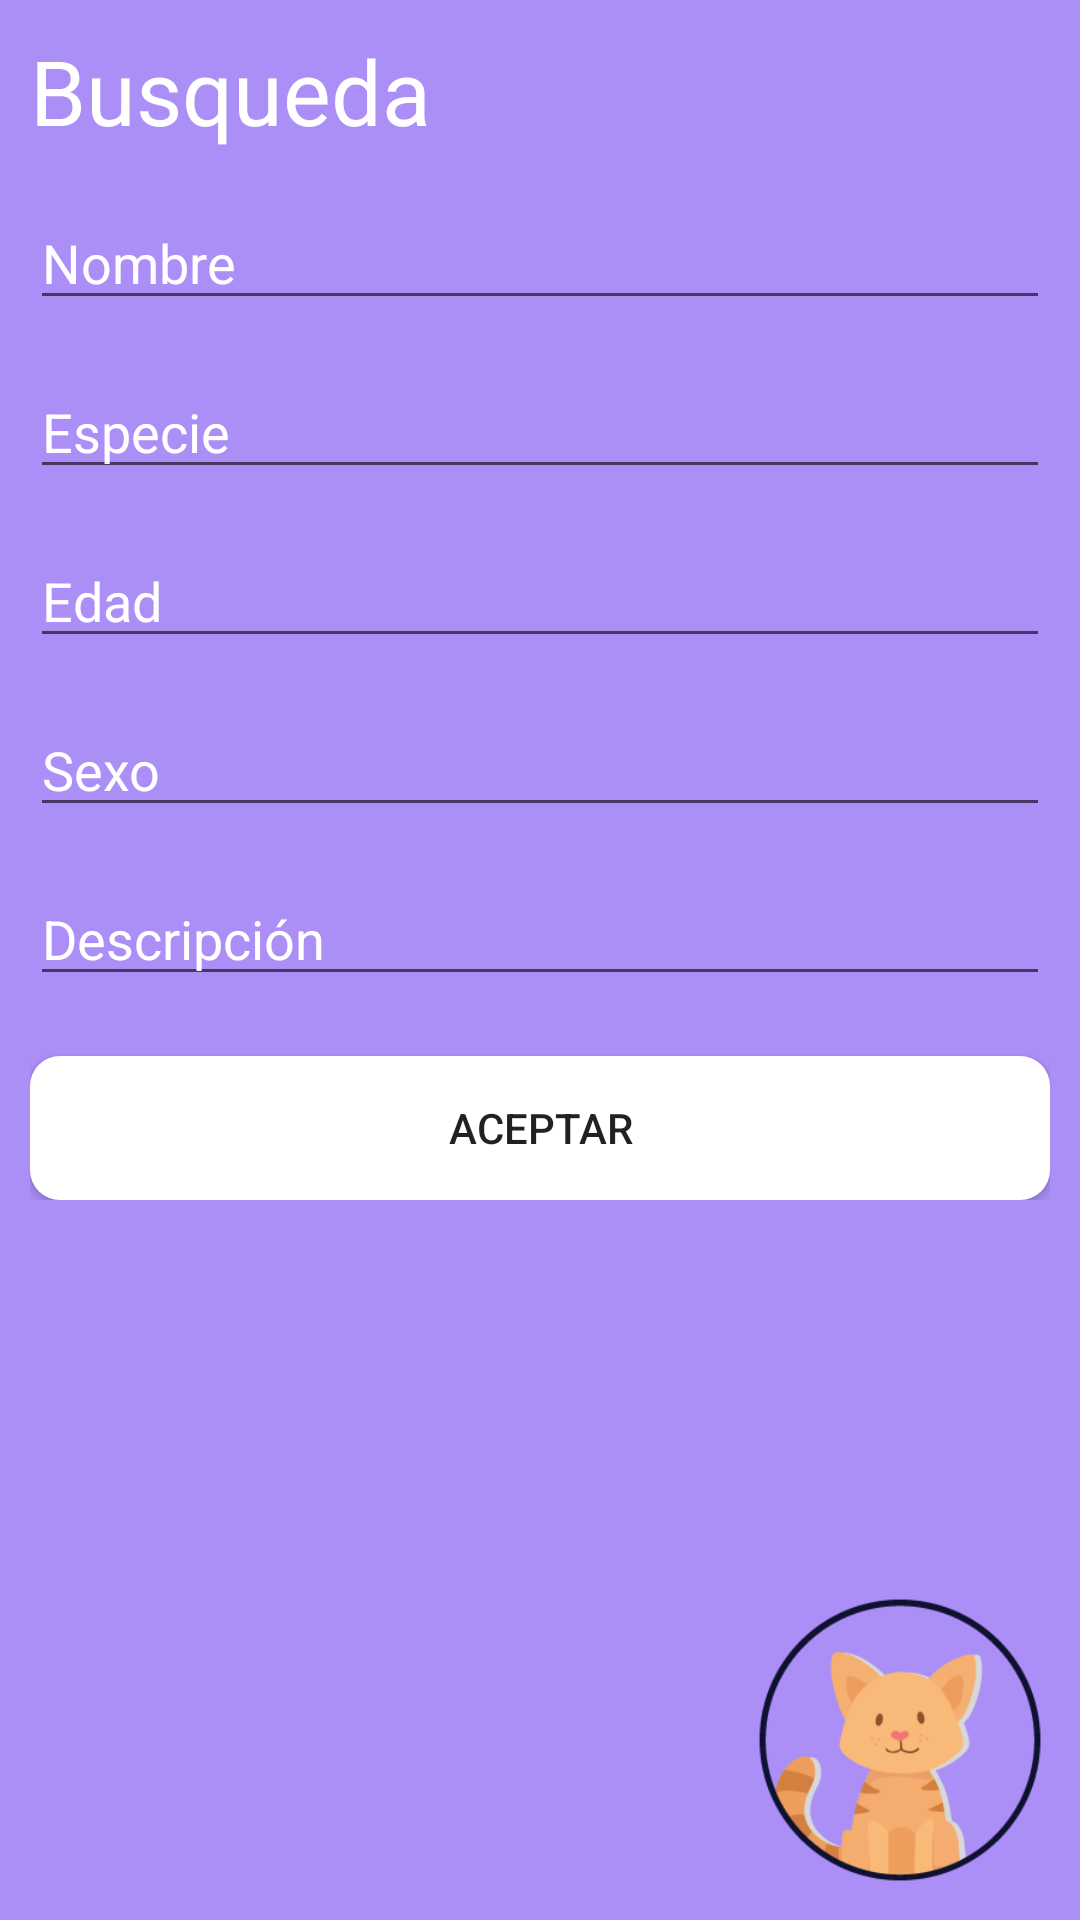

Named icons in this screenshot (1080px x 1920px) and their centers, [x,y]:
cat: [900,1740]
